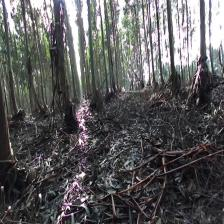trunk: (53, 5, 74, 116), (3, 6, 19, 114), (86, 4, 98, 94), (167, 3, 178, 74), (155, 2, 163, 82), (199, 2, 207, 65)
